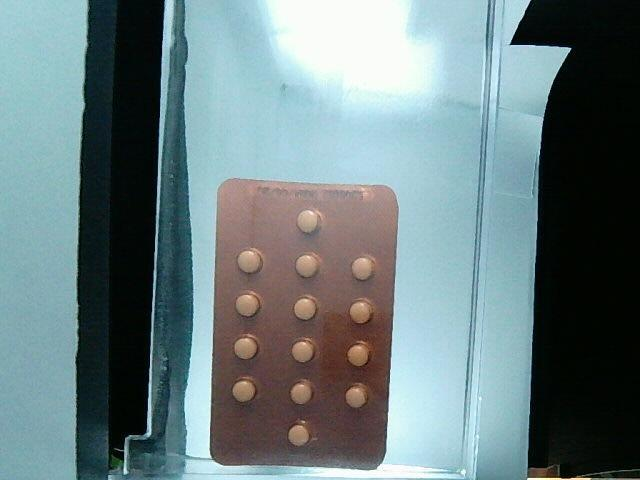Light Front: (209, 178, 400, 473)
Pill Front: (232, 244, 262, 279), (284, 420, 312, 452), (289, 294, 321, 322), (229, 376, 258, 404), (233, 290, 261, 318), (295, 250, 322, 279), (350, 254, 375, 283), (288, 338, 314, 365), (347, 296, 373, 323), (230, 336, 258, 361), (289, 379, 314, 407), (295, 206, 319, 232), (344, 383, 368, 408), (346, 344, 370, 367)
